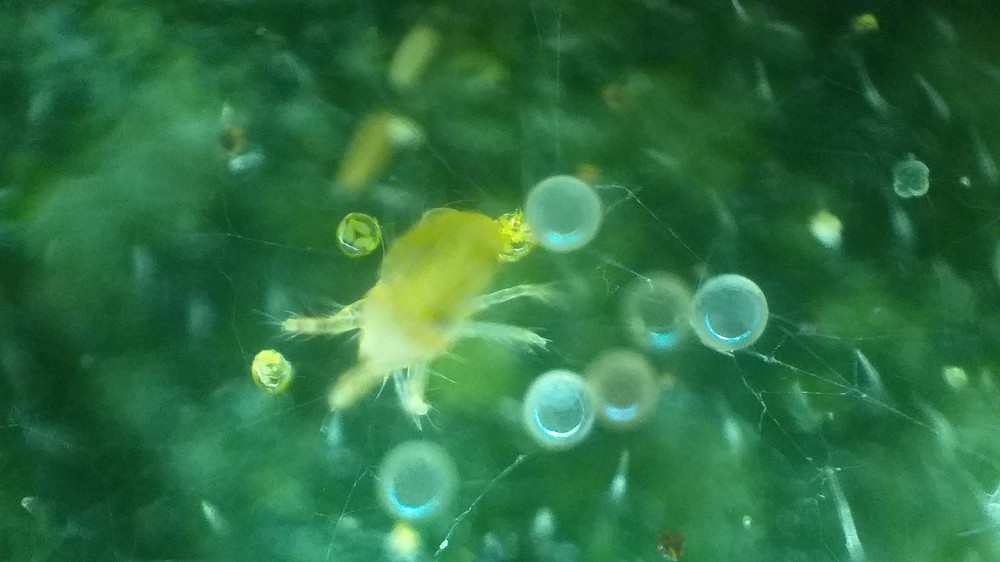Aracnido Rojo: (278, 196, 561, 446)
